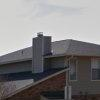Chimney: (21, 23, 57, 80)
